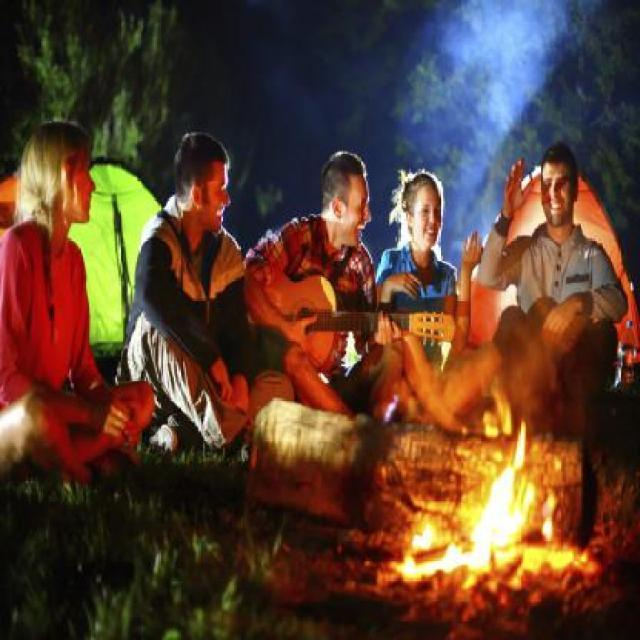Fire: (348, 397, 603, 630)
Smoke: (383, 0, 618, 477)
